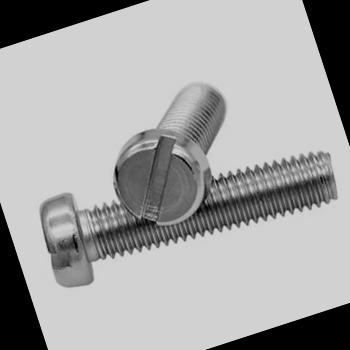slotted: (100, 115, 222, 238)
